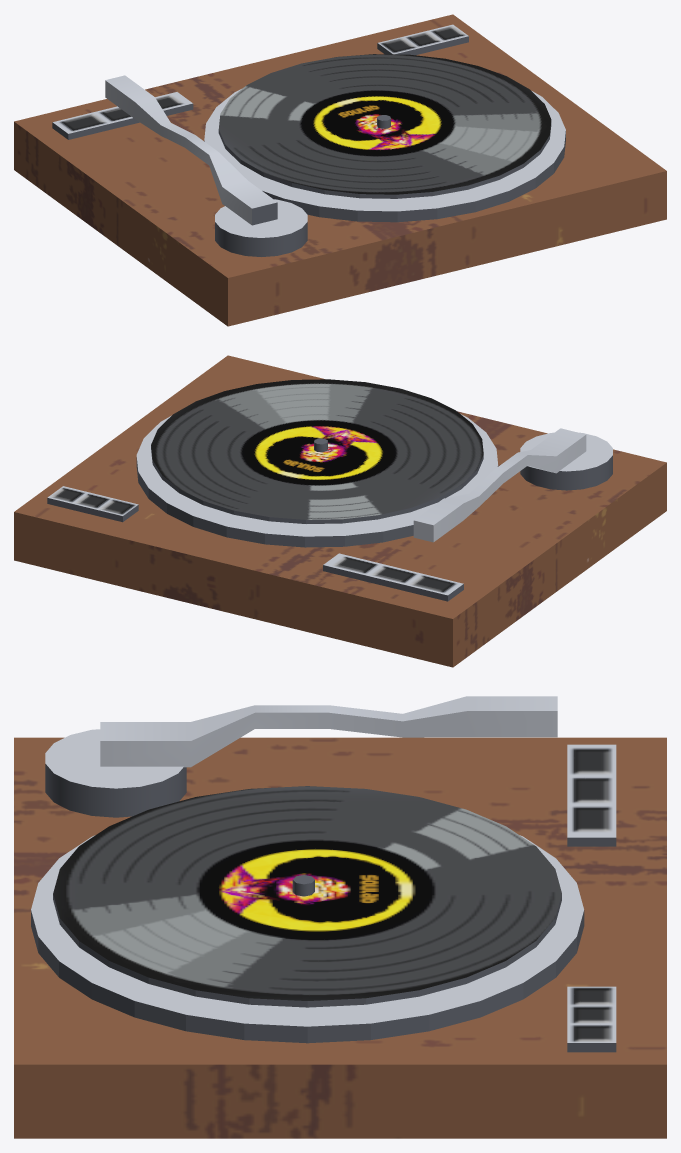
File: turntables.FBX
3 views of the same model, one above another, from view 1: azimuth 30°, elevation 25°; view 2: azimuth 150°, elevation 25°; view 3: azimuth 270°, elevation 25° (orthographic). The views are drawn at different scales.
Parts seen in each view (by area): view 1: Cylinder002; view 2: Cylinder002; view 3: Cylinder002.
Part boxes in pixels (bbox=[...]): Cylinder002: bbox=[14, 14, 666, 326]; Cylinder002: bbox=[14, 355, 666, 667]; Cylinder002: bbox=[14, 696, 666, 1138].
Bounding box in the file's own units: 0.4901 × 0.1094 × 0.4136.
1 material, 1 textured.
